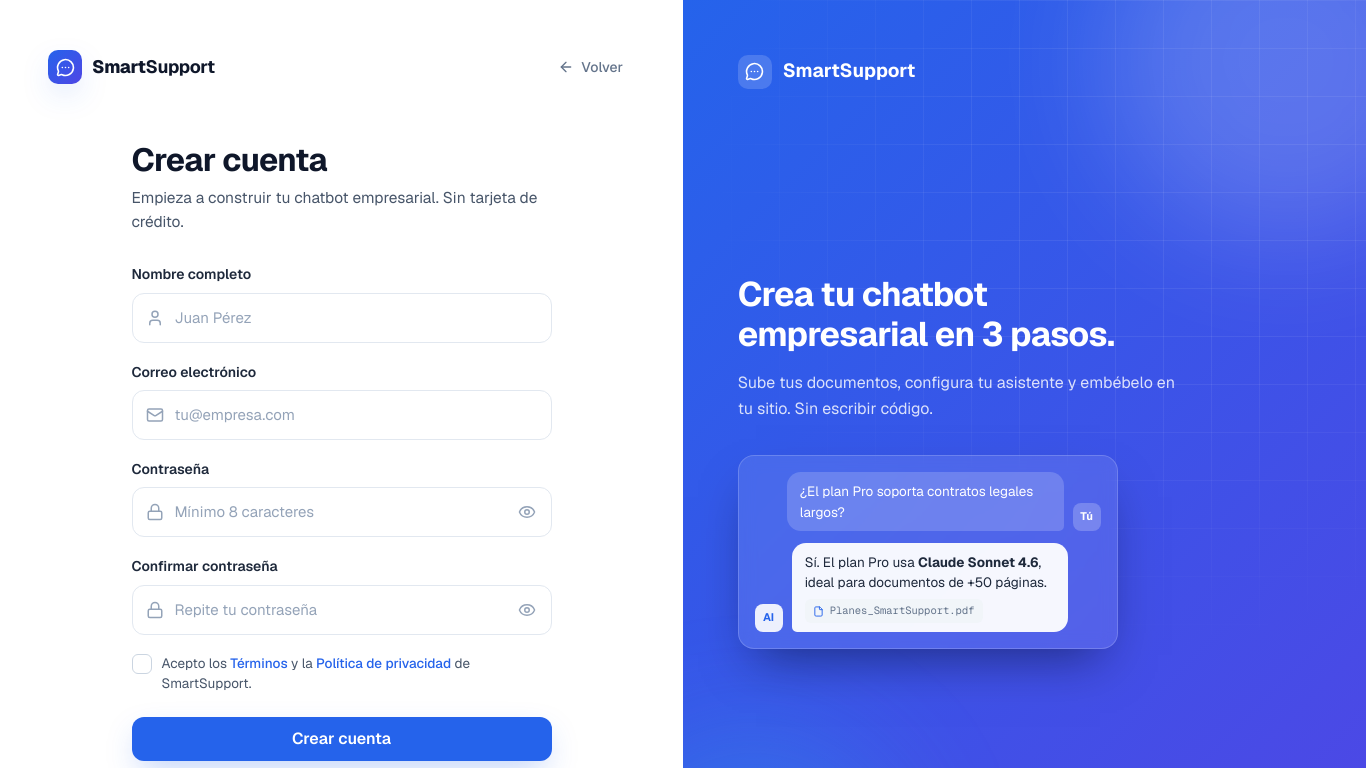
it: RegisterPage › muestra errores si el formulario está vacío
Step 1. Click the button "Crear cuenta" → [342, 739], box [132, 717, 552, 761]
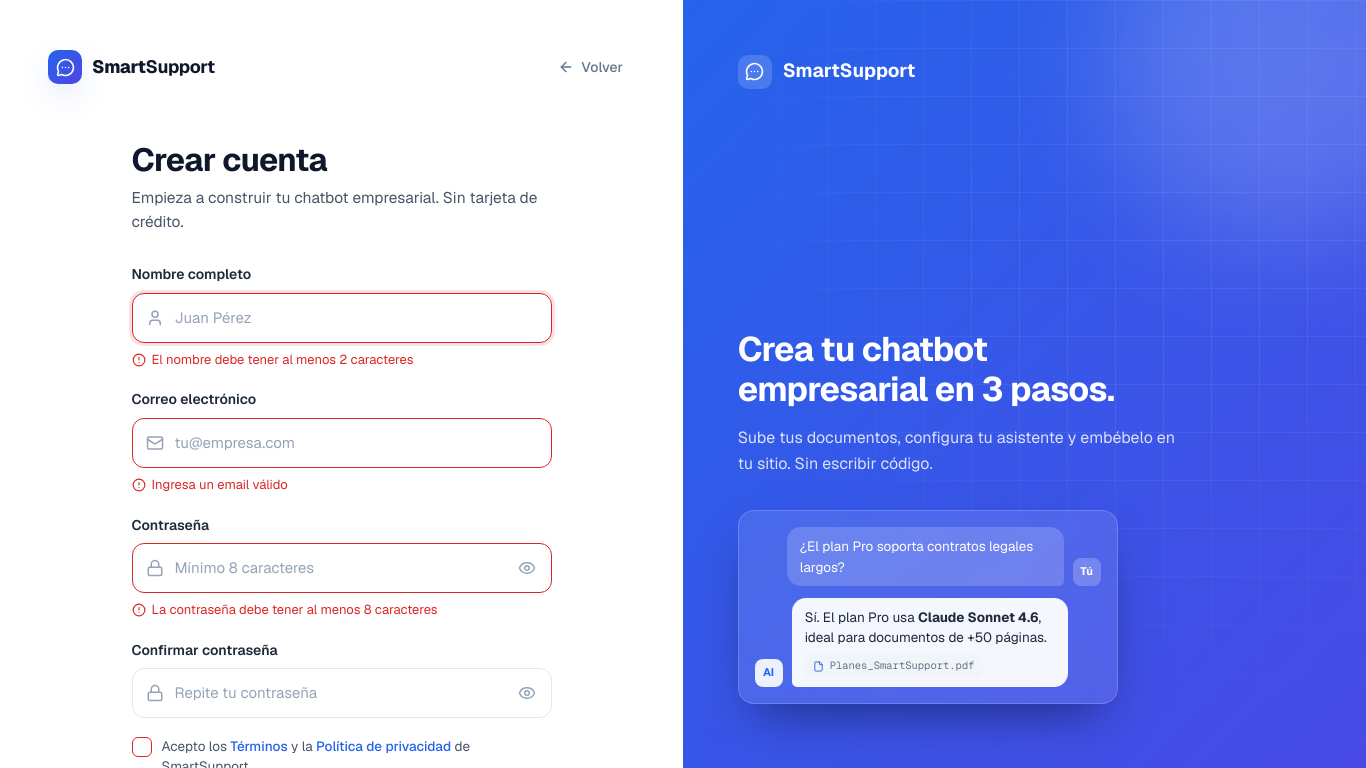
Now the text "El nombre debe tener al menos 2 caracteres" is shown, box [132, 351, 413, 368]
